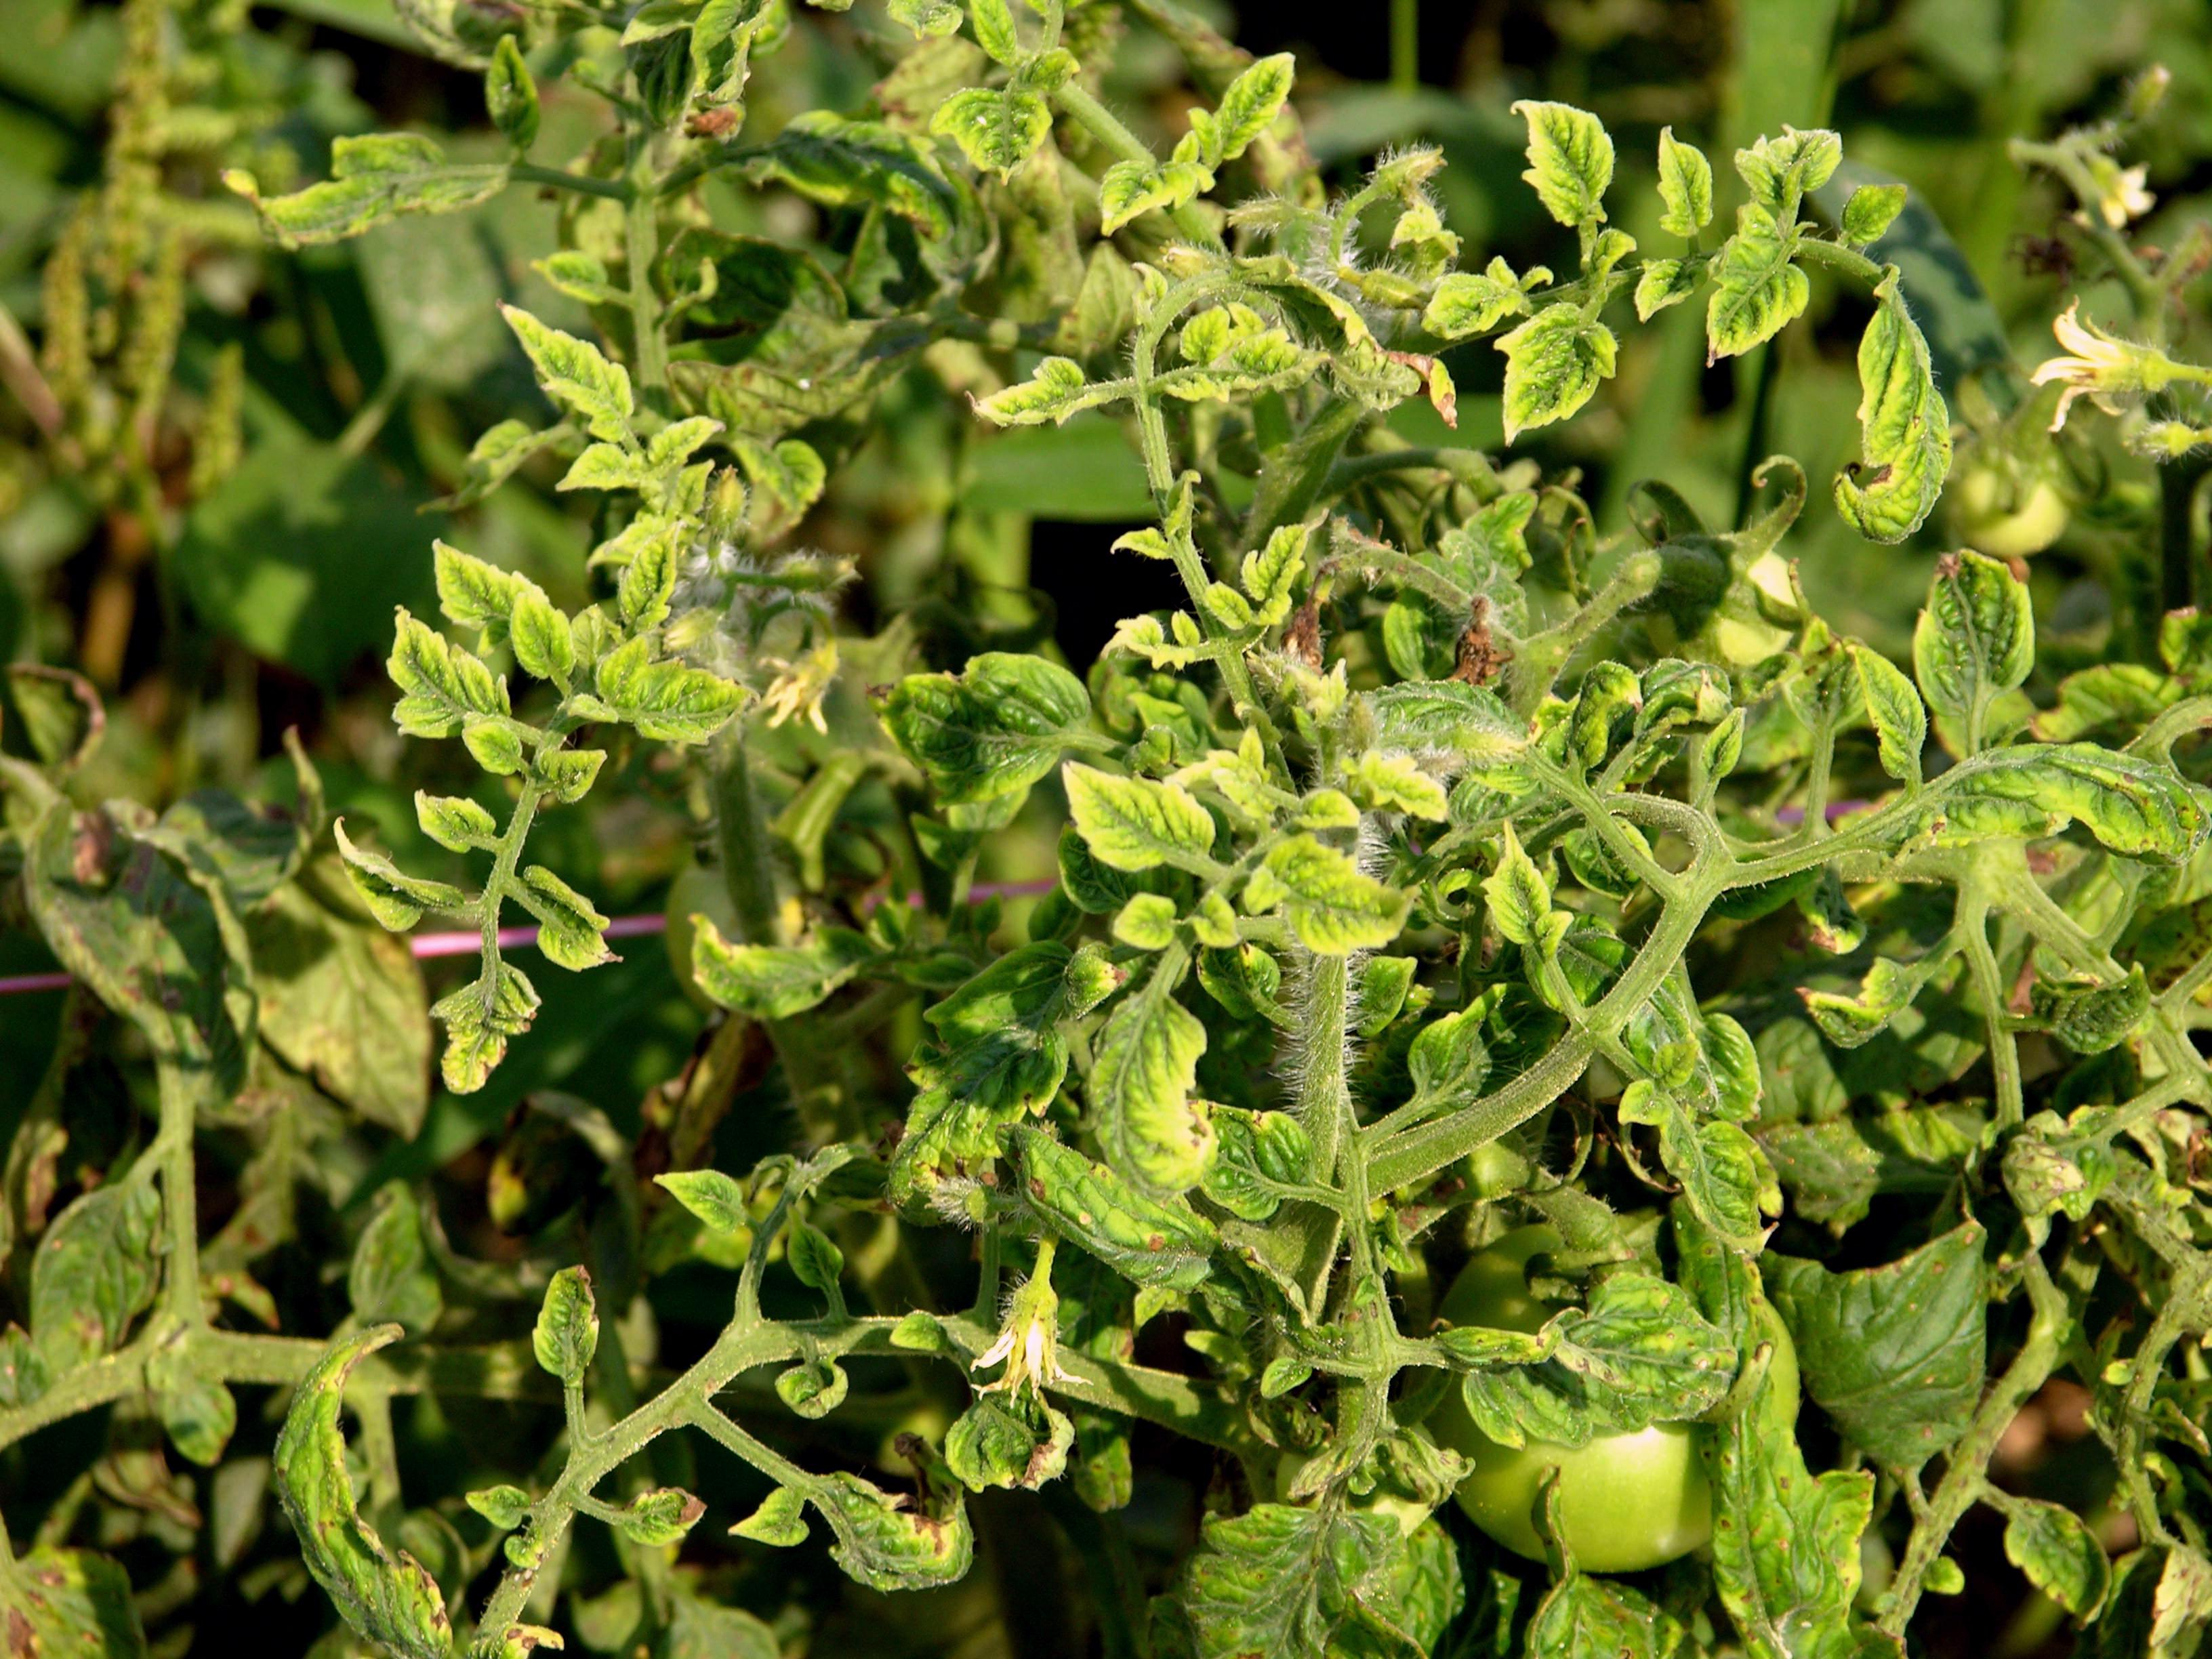Tomato leaf yellow virus: (1409, 1265, 1826, 1475), (212, 1370, 466, 1659), (1707, 1376, 1909, 1659), (830, 644, 1113, 831), (1172, 792, 1437, 977), (990, 1105, 1214, 1310), (1634, 1052, 1805, 1315), (1828, 286, 1961, 562), (779, 1440, 994, 1611), (373, 614, 541, 815), (1683, 175, 1840, 389), (1042, 727, 1228, 893), (1082, 989, 1224, 1201), (1471, 287, 1624, 479), (1906, 548, 2041, 747), (1500, 68, 1646, 239), (419, 956, 573, 1115), (493, 295, 661, 438), (899, 73, 1059, 197), (1132, 296, 1327, 395), (953, 349, 1101, 464), (429, 540, 555, 639), (1088, 150, 1194, 260)
